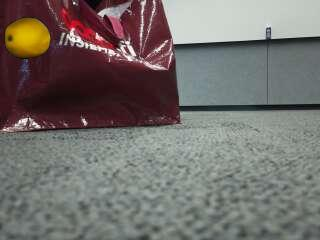lemon: (5, 19, 49, 58)
